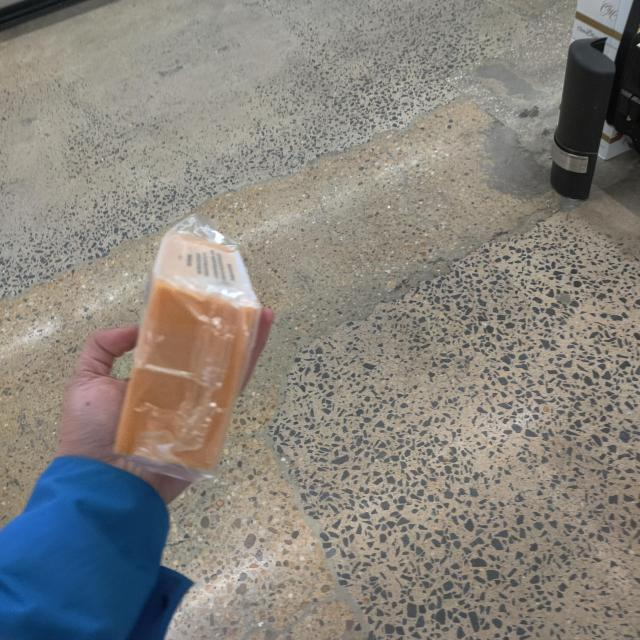Cheese: (107, 209, 281, 510)
